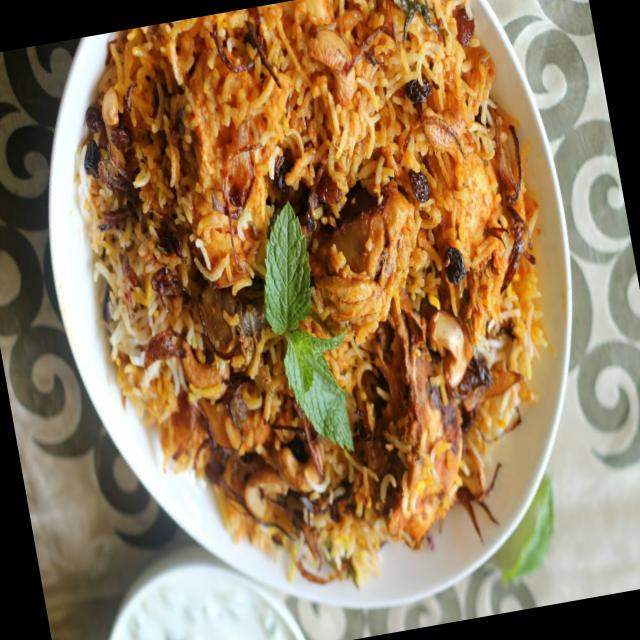Biryani: (52, 0, 596, 629)
